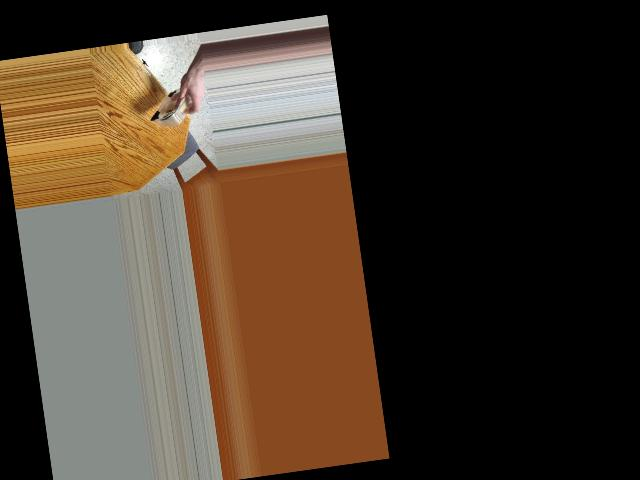cheese: (147, 73, 198, 137)
